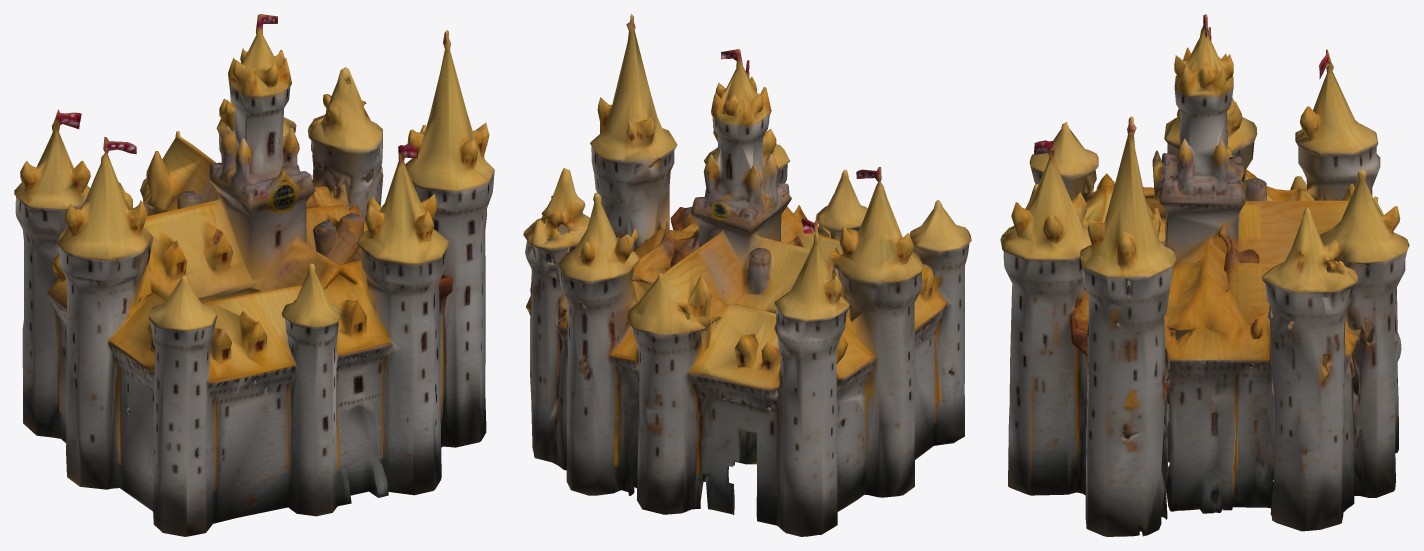
The model's file is fantasy-castle-game.glb.
The picture shows the model from 3 angles, left to right: view 1: azimuth 30°, elevation 25°; view 2: azimuth 150°, elevation 25°; view 3: azimuth 270°, elevation 25°; orthographic projection. The views are drawn at different scales.
Parts seen in each view (by area): view 1: material; view 2: material; view 3: material.
Boxes of the visible parts, bbox=[...] form: material: bbox=[14, 14, 494, 536]; material: bbox=[523, 14, 971, 536]; material: bbox=[1000, 14, 1409, 536].
Bounding box in the file's own units: 0.7918 × 0.8385 × 0.7153.
Materials: 1 (1 with a texture image).
